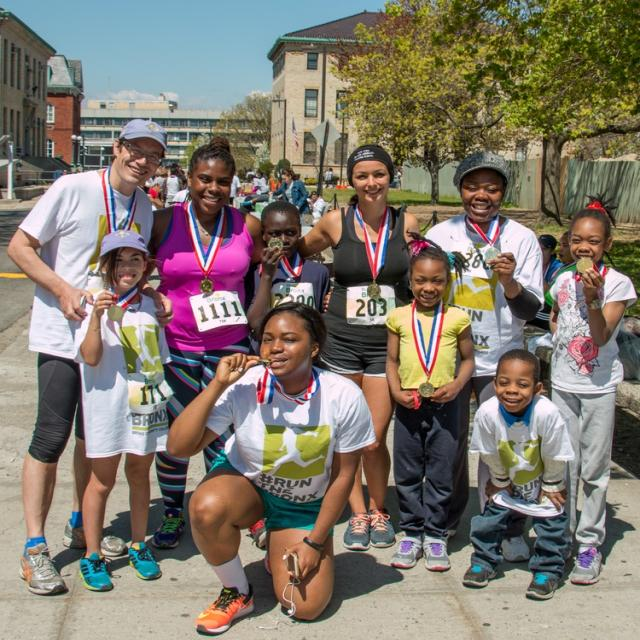body: (2, 113, 175, 598), (160, 296, 382, 639), (142, 134, 270, 553), (461, 348, 640, 640), (421, 152, 548, 562), (300, 142, 422, 553), (532, 184, 638, 592), (68, 226, 174, 594), (383, 230, 479, 574), (244, 199, 331, 346), (142, 161, 192, 206), (266, 167, 312, 215), (543, 230, 577, 294), (233, 172, 282, 212), (537, 233, 565, 285), (160, 167, 185, 208), (305, 189, 329, 228), (245, 173, 271, 206), (227, 169, 242, 206), (394, 167, 404, 191), (59, 166, 79, 176), (322, 168, 331, 188), (326, 167, 334, 189), (389, 178, 398, 189)
